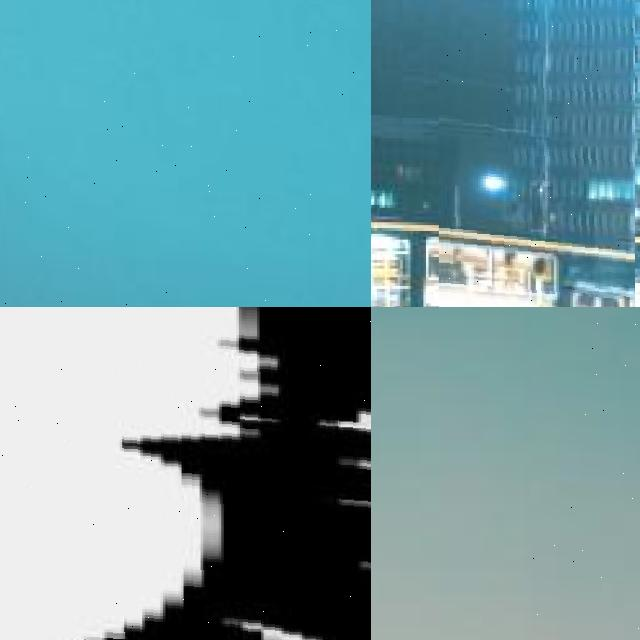street light: (0, 307, 371, 640), (0, 0, 371, 307), (439, 0, 635, 307), (531, 307, 640, 640), (451, 173, 504, 307)
